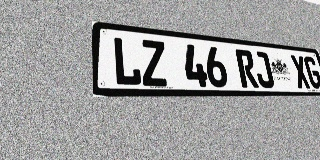4: (182, 44, 209, 87)
6: (203, 46, 229, 87)
G: (303, 56, 320, 89)
J: (252, 51, 275, 88)
L: (112, 36, 142, 86)
R: (235, 49, 259, 88)
X: (290, 55, 311, 88)
Z: (140, 39, 169, 86)
